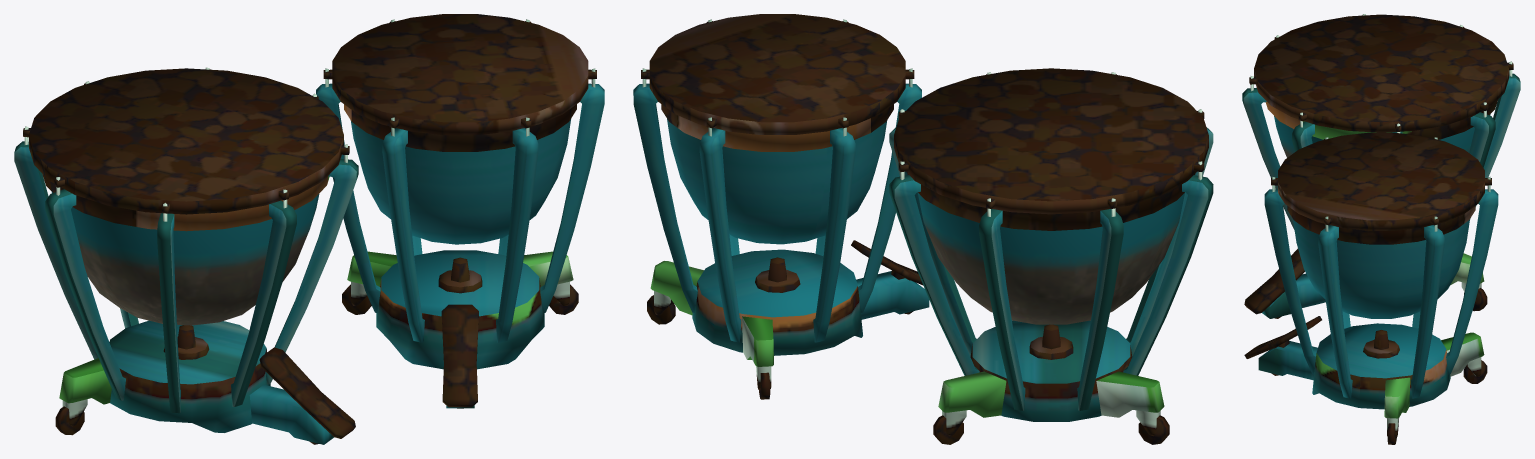
Rendered from timpani.fbx.
The picture shows the model from 3 angles, left to right: view 1: azimuth 30°, elevation 25°; view 2: azimuth 150°, elevation 25°; view 3: azimuth 270°, elevation 25°; orthographic projection. The views are drawn at different scales.
Parts seen in each view (by area): view 1: Timpani; view 2: Timpani; view 3: Timpani.
Boxes of the visible parts, box(x1,y1,x2,y2) form: Timpani: box(14, 14, 604, 444); Timpani: box(633, 14, 1213, 444); Timpani: box(1242, 14, 1520, 444).
Bounding box in the file's own units: 540 × 262 × 295.
